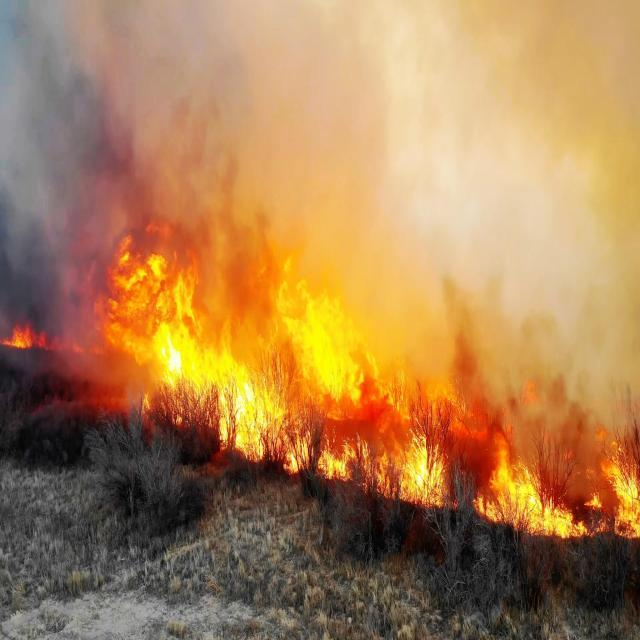Fire: (270, 412, 460, 516), (279, 249, 382, 409), (166, 319, 266, 464), (472, 448, 588, 542), (112, 255, 196, 375), (587, 440, 640, 542), (0, 312, 109, 360)
Smoke: (0, 0, 640, 258), (383, 258, 640, 430)
